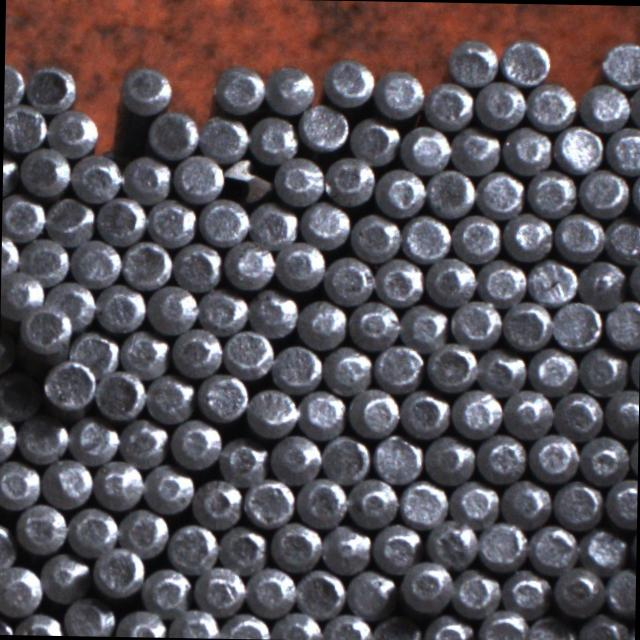tool: (17, 298, 74, 355), (42, 356, 98, 414), (398, 560, 452, 614), (21, 59, 76, 112), (118, 61, 172, 114), (92, 543, 144, 597), (46, 106, 99, 158), (144, 282, 197, 334), (424, 339, 476, 392), (425, 515, 477, 568), (552, 564, 605, 616), (168, 65, 218, 120), (120, 236, 172, 288), (474, 344, 526, 396), (244, 564, 296, 616), (322, 54, 374, 106), (16, 412, 69, 463), (164, 522, 218, 572), (318, 522, 369, 574), (347, 476, 398, 528), (246, 384, 298, 435), (41, 456, 92, 508), (500, 34, 551, 86), (247, 286, 298, 338), (298, 100, 349, 152), (93, 368, 143, 421), (550, 298, 601, 349), (223, 238, 274, 289), (371, 521, 422, 572), (168, 417, 219, 468), (146, 107, 197, 158), (66, 504, 117, 555), (169, 326, 220, 377), (44, 279, 95, 330), (294, 567, 344, 619), (221, 327, 273, 377), (274, 238, 324, 290), (296, 475, 346, 527), (141, 564, 191, 616), (242, 476, 294, 526), (446, 35, 496, 87), (324, 153, 374, 204), (268, 432, 319, 482), (197, 370, 248, 420), (348, 298, 398, 349), (422, 435, 473, 485), (398, 388, 448, 439), (172, 152, 222, 203), (474, 78, 525, 128), (70, 152, 121, 202), (117, 505, 168, 555), (374, 166, 424, 217), (144, 372, 194, 423), (575, 346, 626, 396), (193, 564, 244, 614), (18, 145, 68, 196), (344, 567, 394, 618), (92, 193, 142, 244), (192, 476, 242, 527), (142, 463, 192, 514), (551, 40, 600, 92), (450, 296, 500, 346), (172, 240, 222, 290), (268, 520, 318, 570), (320, 434, 370, 484), (501, 124, 551, 174), (500, 476, 550, 526), (348, 116, 398, 166), (372, 340, 422, 390), (424, 254, 474, 304), (322, 254, 372, 304), (118, 328, 168, 378), (579, 432, 629, 482), (528, 522, 578, 572), (349, 212, 399, 262), (476, 432, 526, 482), (274, 154, 324, 204), (92, 458, 142, 508), (68, 415, 118, 465), (196, 285, 246, 335), (476, 519, 526, 569), (578, 166, 628, 216), (44, 192, 94, 242), (452, 386, 502, 436), (526, 79, 576, 129), (504, 212, 554, 262), (70, 236, 120, 286), (216, 522, 266, 572), (348, 388, 398, 438), (95, 282, 145, 332), (14, 502, 64, 552), (216, 434, 266, 484), (452, 568, 502, 618), (400, 125, 450, 175), (39, 550, 89, 600), (264, 63, 314, 113), (296, 298, 346, 348), (68, 328, 118, 378), (552, 478, 603, 527), (145, 196, 194, 247), (376, 68, 425, 119), (554, 123, 603, 173), (322, 344, 371, 394), (475, 168, 524, 218), (399, 300, 448, 350), (501, 299, 550, 349), (372, 432, 421, 482), (450, 126, 499, 176), (529, 432, 579, 481), (576, 256, 625, 306), (503, 388, 552, 438), (249, 114, 298, 164), (526, 256, 575, 305), (272, 341, 321, 390), (197, 197, 246, 246), (554, 389, 603, 438), (578, 81, 627, 130), (118, 415, 166, 465), (398, 478, 448, 526), (426, 166, 474, 216), (528, 345, 576, 395), (298, 388, 346, 438), (451, 212, 501, 260), (424, 80, 474, 128), (214, 64, 262, 114), (222, 156, 272, 204), (450, 476, 499, 524), (300, 199, 349, 247), (526, 169, 574, 218), (373, 256, 422, 304), (554, 210, 603, 258), (122, 153, 170, 202), (20, 234, 69, 282), (402, 212, 449, 262), (477, 256, 525, 304), (198, 114, 246, 162), (502, 568, 550, 616), (247, 200, 294, 249), (580, 524, 628, 571), (3, 102, 46, 154), (0, 368, 41, 422), (0, 269, 44, 319), (1, 191, 44, 241), (0, 459, 40, 511), (63, 596, 114, 636), (0, 564, 39, 616), (601, 37, 640, 88), (604, 297, 640, 348), (603, 214, 640, 263), (604, 124, 640, 174), (604, 476, 638, 527), (604, 388, 639, 437), (604, 566, 636, 618), (169, 606, 220, 638), (477, 608, 527, 640), (114, 608, 166, 638), (272, 610, 321, 640), (576, 612, 628, 640), (373, 612, 423, 640), (320, 612, 369, 640), (220, 611, 268, 639), (12, 610, 62, 636), (424, 613, 472, 640), (526, 615, 575, 640), (4, 59, 24, 110)
